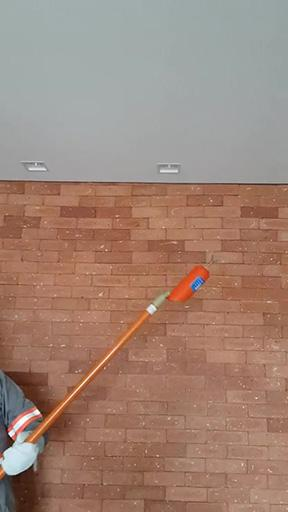Detector_Tensao_Contato: (166, 254, 221, 303)
Vara_Manobra: (1, 297, 166, 471)
